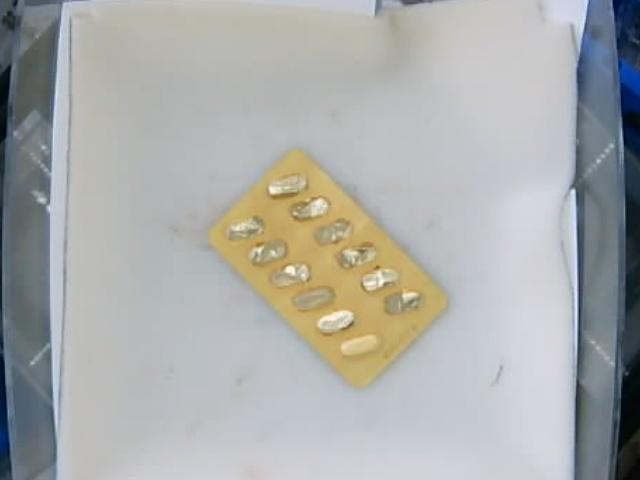Medicine: (217, 147, 445, 389)
